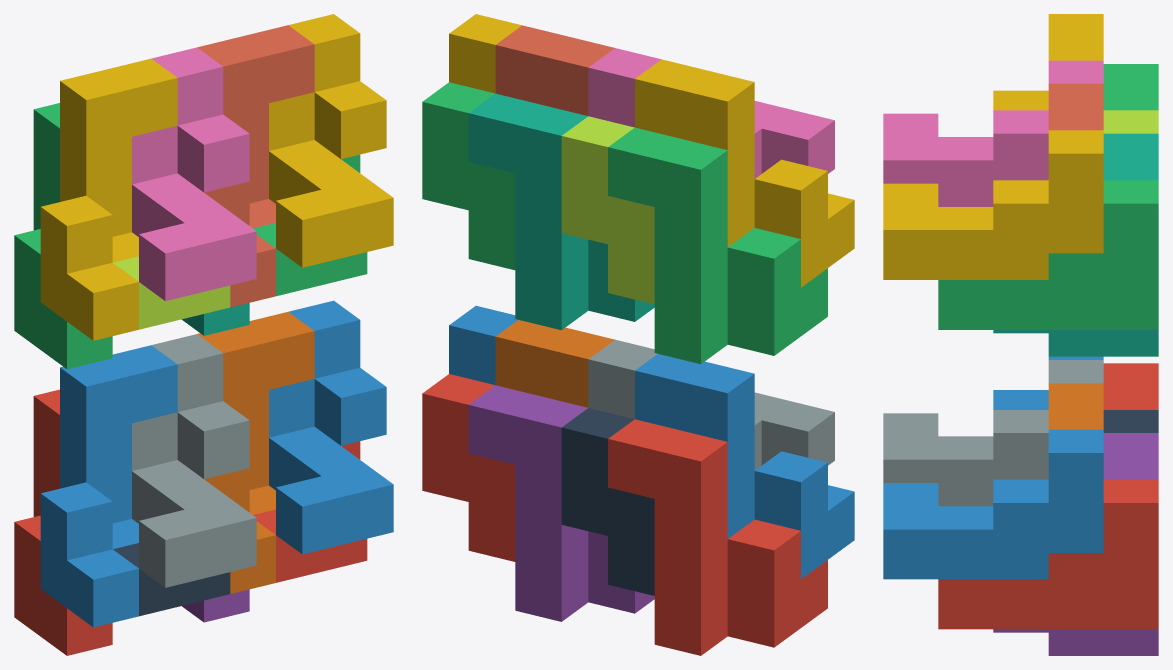
File: tiling.obj
3 views of the same model, side by side, from view 1: azimuth 30°, elevation 25°; view 2: azimuth 150°, elevation 25°; view 3: azimuth 270°, elevation 25° (orthographic). The views are drawn at different scales.
Parts seen in each view (by area): view 1: copy_1_domain_4, copy_1_domain_2, copy_2_domain_2, copy_2_domain_4, copy_2_domain_6, copy_2_domain_8, copy_1_domain_8, copy_1_domain_6, copy_1_domain_1, copy_1_domain_3, copy_2_domain_5, copy_2_domain_7 (+4 smaller); view 2: copy_1_domain_1, copy_1_domain_3, copy_1_domain_4, copy_1_domain_2, copy_1_domain_5, copy_1_domain_7, copy_2_domain_5, copy_2_domain_7, copy_2_domain_1, copy_2_domain_3, copy_2_domain_4, copy_2_domain_2 (+4 smaller); view 3: copy_2_domain_6, copy_2_domain_8, copy_2_domain_5, copy_2_domain_7, copy_2_domain_4, copy_2_domain_2, copy_1_domain_7, copy_1_domain_5, copy_1_domain_4, copy_1_domain_8, copy_1_domain_1, copy_1_domain_6 (+4 smaller).
Part boxes in pixels (bbox=[...]): copy_1_domain_4: bbox=[40, 58, 177, 340]; copy_1_domain_2: bbox=[40, 345, 177, 627]; copy_2_domain_2: bbox=[132, 334, 256, 587]; copy_2_domain_4: bbox=[132, 47, 256, 301]; copy_2_domain_6: bbox=[269, 300, 393, 554]; copy_2_domain_8: bbox=[269, 14, 393, 267]; copy_1_domain_8: bbox=[197, 25, 314, 307]; copy_1_domain_6: bbox=[197, 312, 314, 593]; copy_1_domain_1: bbox=[14, 389, 112, 655]; copy_1_domain_3: bbox=[14, 103, 112, 369]; copy_2_domain_5: bbox=[253, 441, 367, 582]; copy_2_domain_7: bbox=[253, 154, 367, 296]; copy_1_domain_1: bbox=[608, 419, 827, 655]; copy_1_domain_3: bbox=[608, 127, 827, 364]; copy_1_domain_4: bbox=[635, 59, 854, 287]; copy_1_domain_2: bbox=[635, 354, 854, 578]; copy_1_domain_5: bbox=[468, 385, 654, 621]; copy_1_domain_7: bbox=[468, 93, 654, 330]; copy_2_domain_5: bbox=[422, 374, 515, 561]; copy_2_domain_7: bbox=[422, 82, 515, 270]; copy_2_domain_1: bbox=[561, 408, 654, 595]; copy_2_domain_3: bbox=[561, 116, 654, 304]; copy_2_domain_4: bbox=[588, 48, 834, 178]; copy_2_domain_2: bbox=[588, 339, 834, 470]; copy_2_domain_6: bbox=[883, 429, 1103, 579]; copy_2_domain_8: bbox=[883, 130, 1103, 279]; copy_2_domain_5: bbox=[938, 479, 1158, 629]; copy_2_domain_7: bbox=[938, 180, 1158, 329]; copy_2_domain_4: bbox=[883, 60, 1103, 206]; copy_2_domain_2: bbox=[883, 360, 1103, 506]; copy_1_domain_7: bbox=[993, 133, 1158, 356]; copy_1_domain_5: bbox=[993, 433, 1158, 655]; copy_1_domain_4: bbox=[993, 14, 1103, 110]; copy_1_domain_8: bbox=[1048, 83, 1103, 130]; copy_1_domain_1: bbox=[1103, 363, 1158, 409]; copy_1_domain_6: bbox=[1048, 383, 1103, 429].
Bounding box in the file's own units: 7 × 11 × 5.
